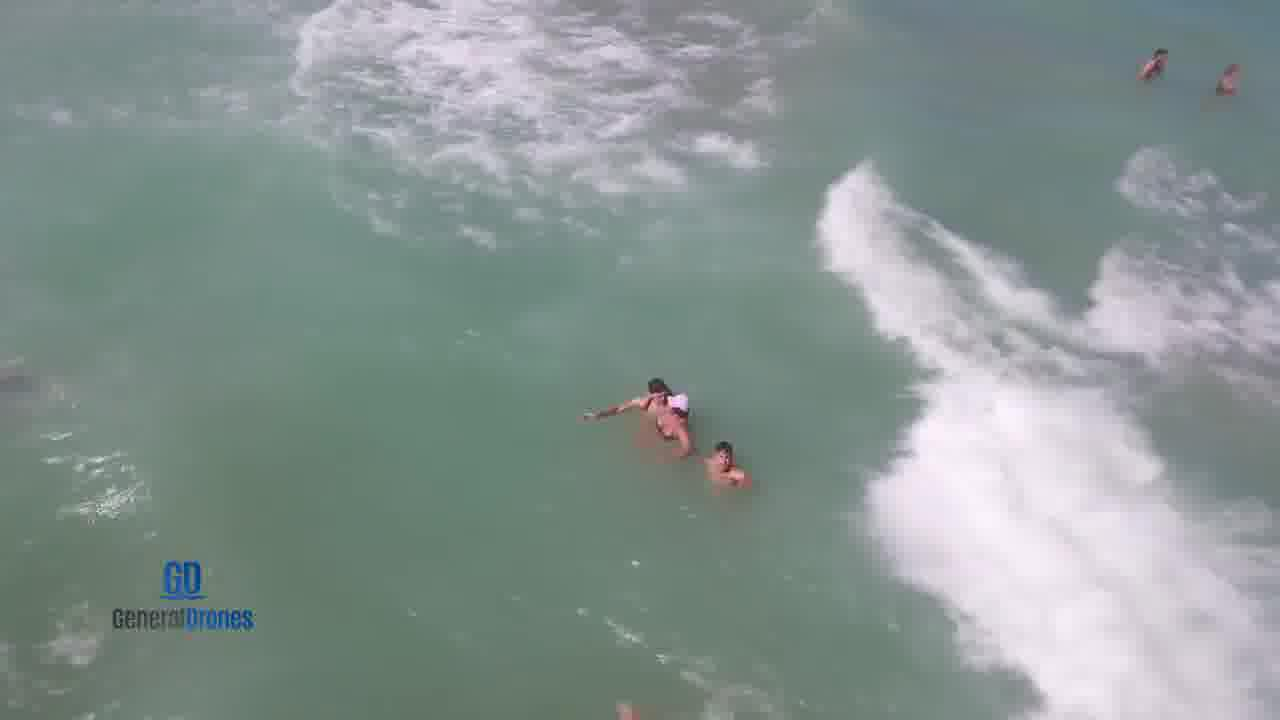human: (579, 378, 682, 421), (690, 435, 758, 495), (654, 398, 698, 453), (1127, 41, 1175, 82), (1210, 53, 1248, 100)
